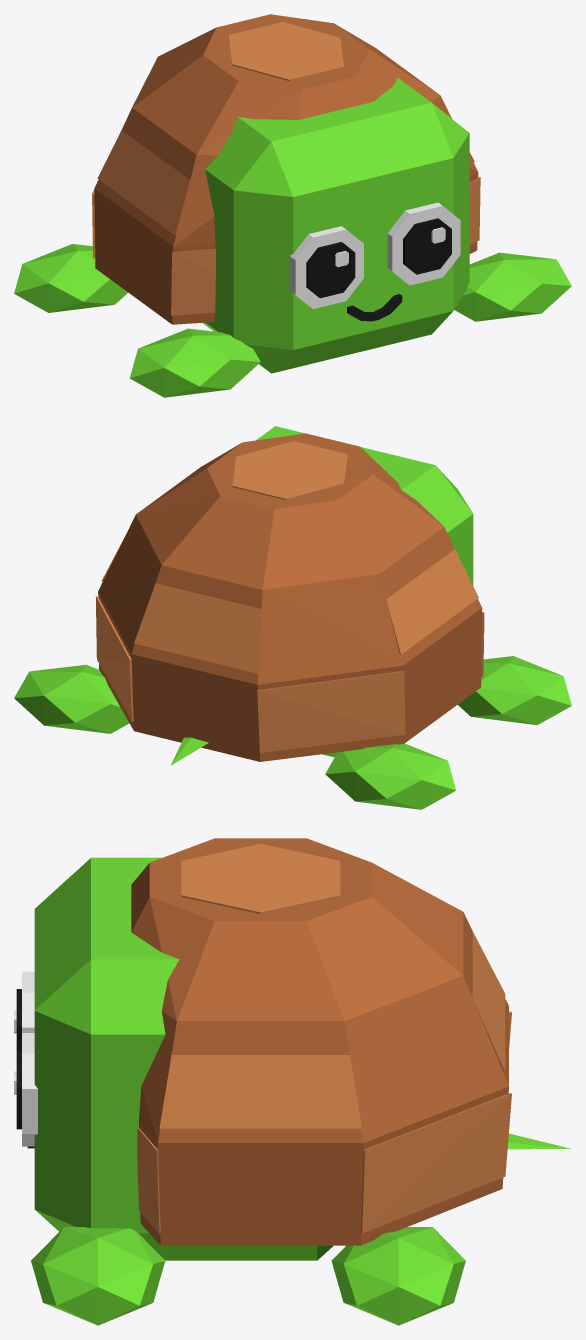
The model's file is Turtle.fbx.
3 views of the same model, one above another, from view 1: azimuth 30°, elevation 25°; view 2: azimuth 150°, elevation 25°; view 3: azimuth 270°, elevation 25° (orthographic). The views are drawn at different scales.
Parts seen in each view (by area): view 1: Turtle, Turtle_Shell, Turtle_Skin, Turtle_Panel, Turtle_Eyes, Turtle_Pupils, Turtle_Mouth; view 2: Turtle_Shell, Turtle_Panel, Turtle_Skin, Turtle; view 3: Turtle_Shell, Turtle, Turtle_Panel, Turtle_Skin, Turtle_Eyes, Turtle_Pupils.
Boxes of the visible parts, left/top/right/bottom form: Turtle: left=202, top=78, right=469, bottom=373; Turtle_Shell: left=94, top=14, right=478, bottom=324; Turtle_Skin: left=14, top=244, right=571, bottom=397; Turtle_Panel: left=92, top=22, right=480, bottom=315; Turtle_Eyes: left=289, top=202, right=460, bottom=308; Turtle_Pupils: left=306, top=218, right=451, bottom=298; Turtle_Mouth: left=347, top=294, right=402, bottom=321; Turtle_Shell: left=98, top=433, right=482, bottom=761; Turtle_Panel: left=95, top=441, right=484, bottom=752; Turtle_Skin: left=14, top=656, right=571, bottom=809; Turtle: left=256, top=426, right=473, bottom=757; Turtle_Shell: left=131, top=838, right=508, bottom=1245; Turtle: left=34, top=857, right=333, bottom=1260; Turtle_Panel: left=137, top=843, right=511, bottom=1233; Turtle_Skin: left=31, top=1133, right=571, bottom=1325; Turtle_Eyes: left=14, top=971, right=37, bottom=1146; Turtle_Pupils: left=16, top=989, right=21, bottom=1129.
Bounding box in the file's own units: 3.62 × 2.07 × 3.16.
